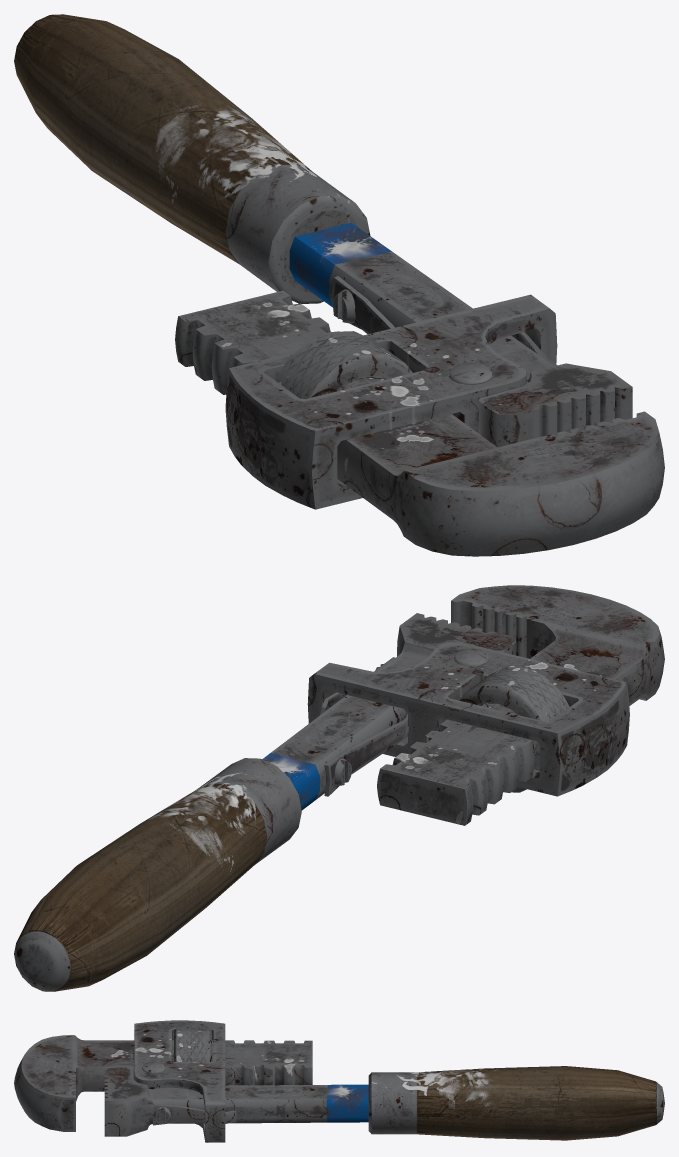
3 renders of one model, top to bottom at view 1: azimuth 30°, elevation 25°; view 2: azimuth 150°, elevation 25°; view 3: azimuth 270°, elevation 25°, orthographic. The views are drawn at different scales.
Visible parts, largest first — view 1: grp_4lo, grp3_lo, grp2_lo, grp1_lo; view 2: grp_4lo, grp3_lo, grp2_lo, grp1_lo; view 3: grp_4lo, grp2_lo, grp3_lo, grp1_lo.
Boxes of the visible parts, x1,y1,x2,y2 form: grp_4lo: (14,14,664,556); grp3_lo: (225,294,557,509); grp2_lo: (289,223,632,447); grp1_lo: (275,276,557,398); grp_4lo: (14,585,664,991); grp3_lo: (307,642,629,796); grp2_lo: (262,613,516,810); grp1_lo: (320,657,569,796); grp_4lo: (14,1035,664,1140); grp2_lo: (104,1067,368,1136); grp3_lo: (134,1020,225,1142); grp1_lo: (153,1028,236,1125).
Bounding box in the file's own units: 10.13 × 3.89 × 33.23.
Materials: 1 (1 with a texture image).
